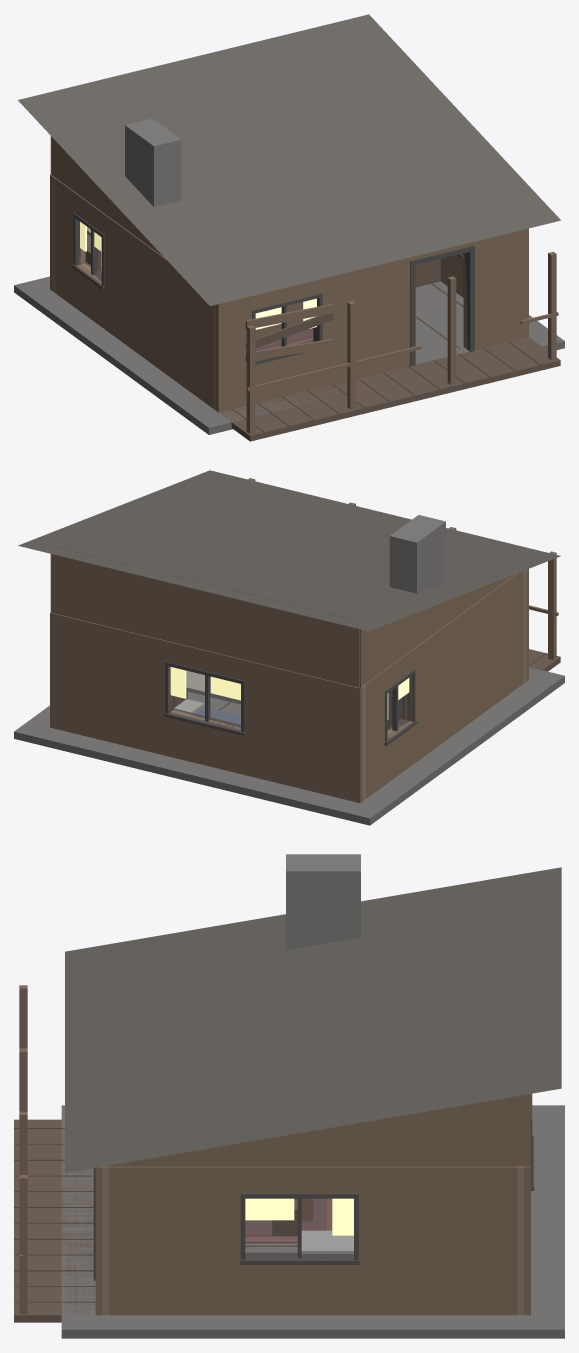
Rendered from casa_03_cabana_madeira.glb.
The picture shows the model from 3 angles, top to bottom: view 1: azimuth 30°, elevation 25°; view 2: azimuth 150°, elevation 25°; view 3: azimuth 270°, elevation 25°; orthographic projection. The views are drawn at different scales.
Parts seen in each view (by area): view 1: roof, wall_south, walls_exterior, exterior_props, floor, chimney, decor_grim, furniture, glass; view 2: roof, walls_exterior, floor, chimney, exterior_props, furniture, glass, wall_south; view 3: roof, walls_exterior, floor, exterior_props, chimney, furniture, wall_south, glass.
Part boxes in pixels (x1,y1,x2,y2): roof: (18, 14, 560, 305); wall_south: (213, 228, 528, 412); walls_exterior: (50, 174, 463, 408); exterior_props: (219, 251, 560, 441); floor: (14, 276, 564, 434); chimney: (125, 118, 181, 206); decor_grim: (245, 304, 333, 361); furniture: (86, 227, 440, 350); glass: (80, 221, 316, 329); roof: (18, 470, 560, 688); walls_exterior: (50, 571, 523, 803); floor: (14, 667, 564, 825); chimney: (389, 515, 445, 593); exterior_props: (248, 478, 560, 676); furniture: (174, 670, 402, 728); glass: (170, 667, 409, 719); wall_south: (523, 569, 528, 683); roof: (65, 867, 561, 1172); walls_exterior: (109, 1093, 534, 1315); floor: (61, 1105, 564, 1338); exterior_props: (14, 985, 95, 1322); chimney: (286, 854, 360, 949); furniture: (245, 1198, 353, 1253); wall_south: (93, 1166, 109, 1315); glass: (245, 1198, 353, 1235).
Bounding box in the file's own units: 7.8 × 4.55 × 8.1.
